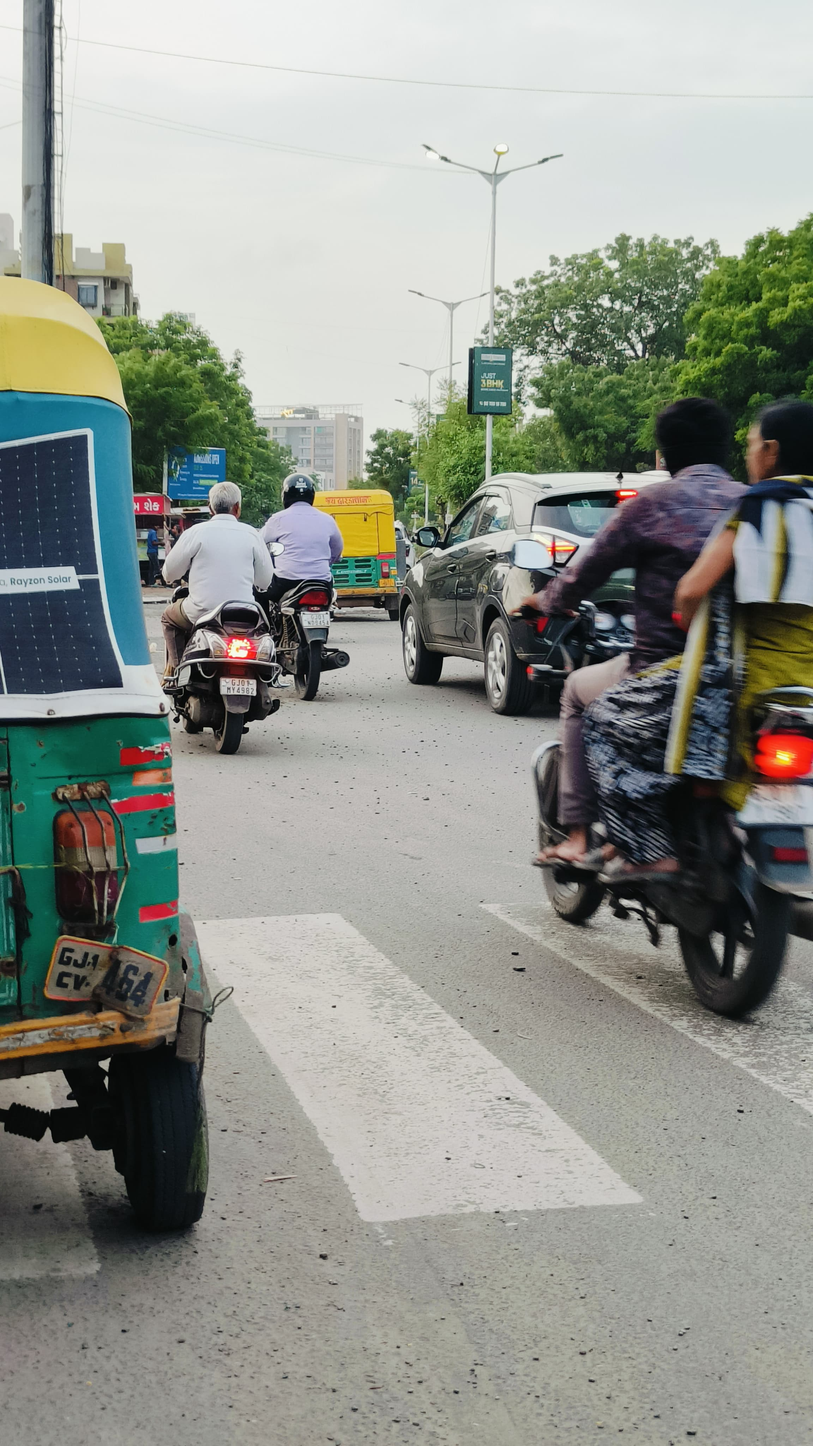BikeWithRider: (156, 480, 286, 755), (255, 470, 352, 704)
Helmet: (282, 470, 317, 509)
NoHelmet: (204, 480, 244, 522)
